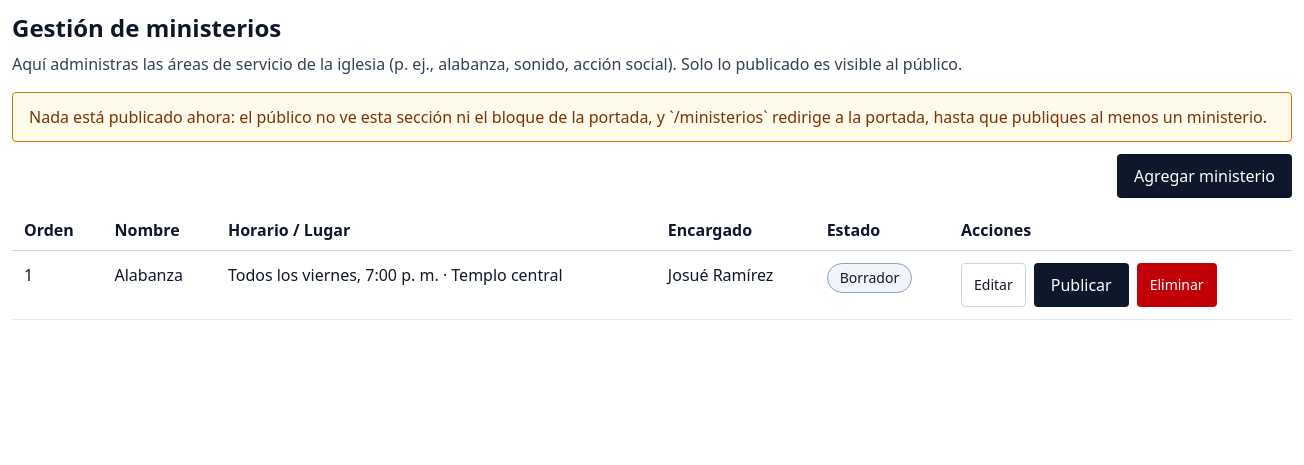
Test case: MinistriesPage · estados de la vista (ux.md §5.a) › con contenido en caché y una recarga fallida conserva el listado y avisa
Click the button "Publicar": (1081, 285) [1034,263,1129,307]
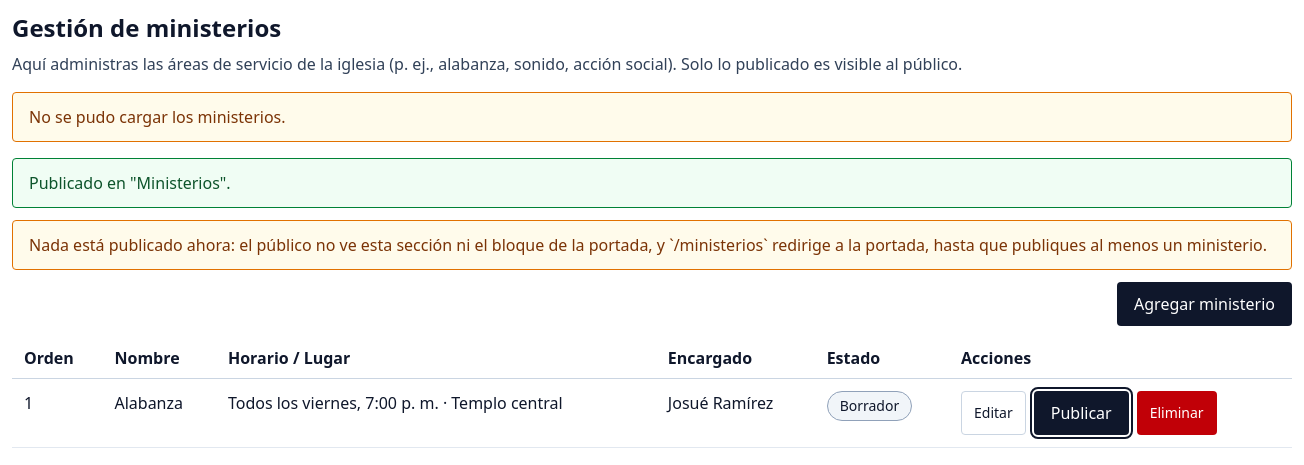
Expected: the table is shown, [12,338,1292,448]
Expected: the text "No se pudo cargar los ministerios." is shown, [12,92,1292,142]
